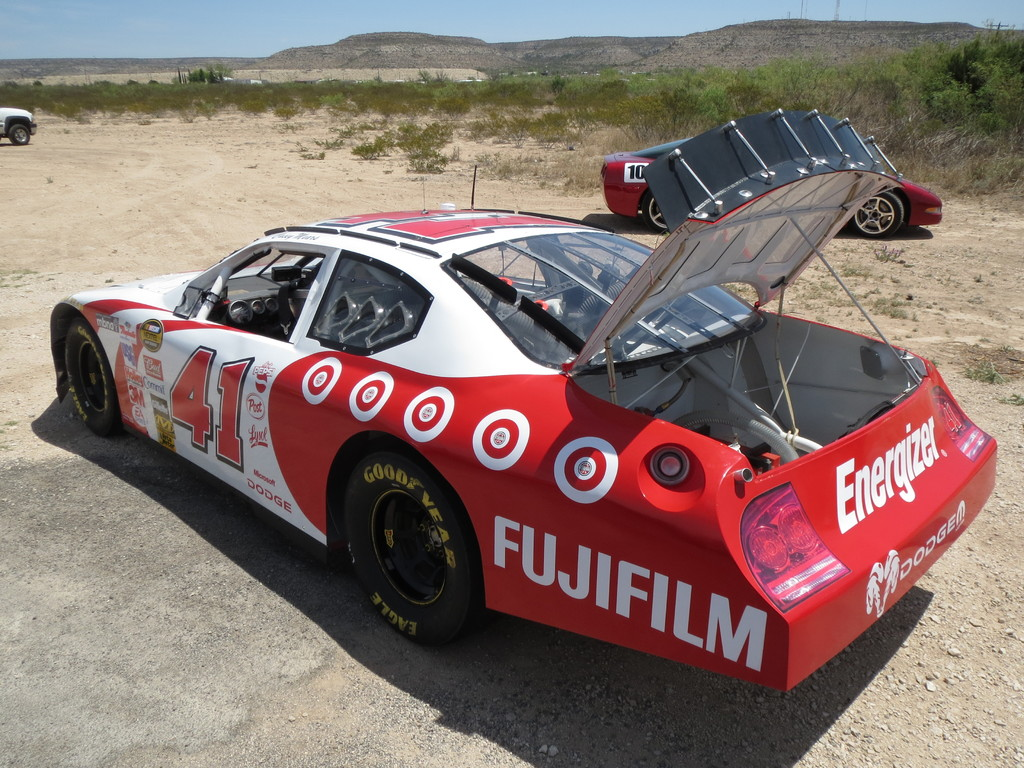Car: (48, 105, 997, 693), (600, 136, 942, 232), (0, 106, 36, 144)
